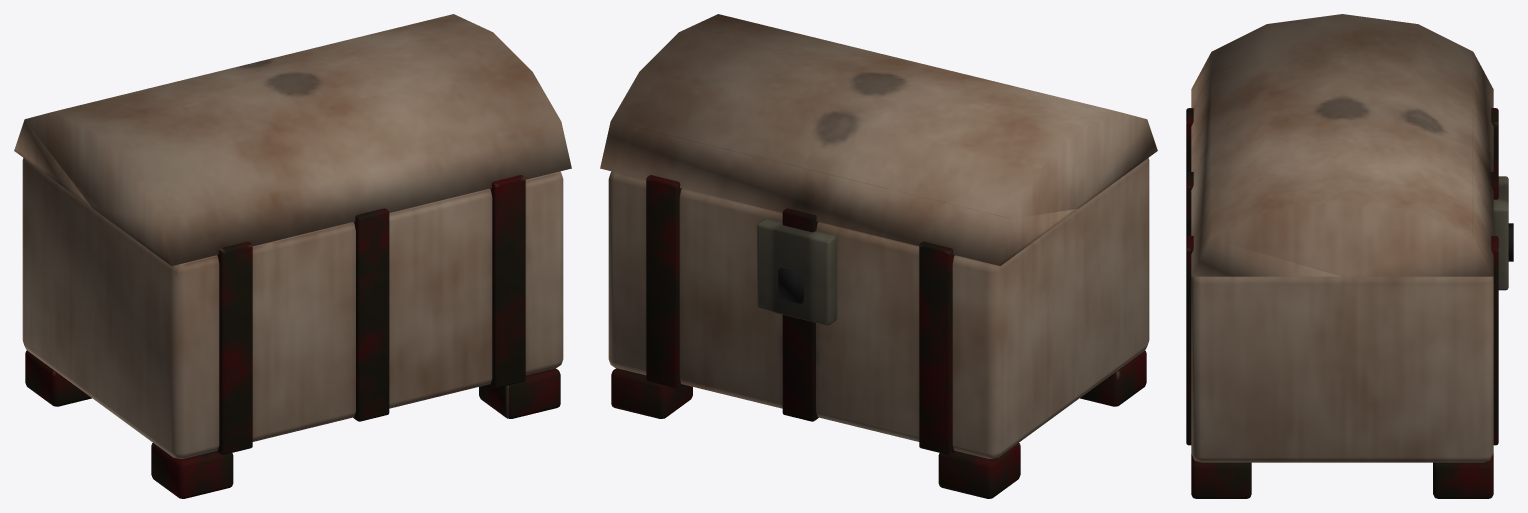
The model's file is titan_coffer.obj.
3 views of the same model, side by side, from view 1: azimuth 30°, elevation 25°; view 2: azimuth 150°, elevation 25°; view 3: azimuth 270°, elevation 25° (orthographic). The views are drawn at different scales.
Parts seen in each view (by area): view 1: part0, part1; view 2: part0, part1, part2, part3; view 3: part0, part1, part2.
Boxes of the visible parts, bbox=[...] form: part0: bbox=[14, 14, 571, 458]; part1: bbox=[25, 175, 560, 498]; part0: bbox=[600, 14, 1157, 458]; part1: bbox=[611, 175, 1146, 498]; part2: bbox=[757, 218, 836, 325]; part3: bbox=[778, 268, 803, 303]; part0: bbox=[1191, 14, 1493, 462]; part1: bbox=[1186, 108, 1498, 498]; part2: bbox=[1493, 176, 1508, 290].
Bounding box in the file's own units: 0.88 × 0.665 × 0.65.
